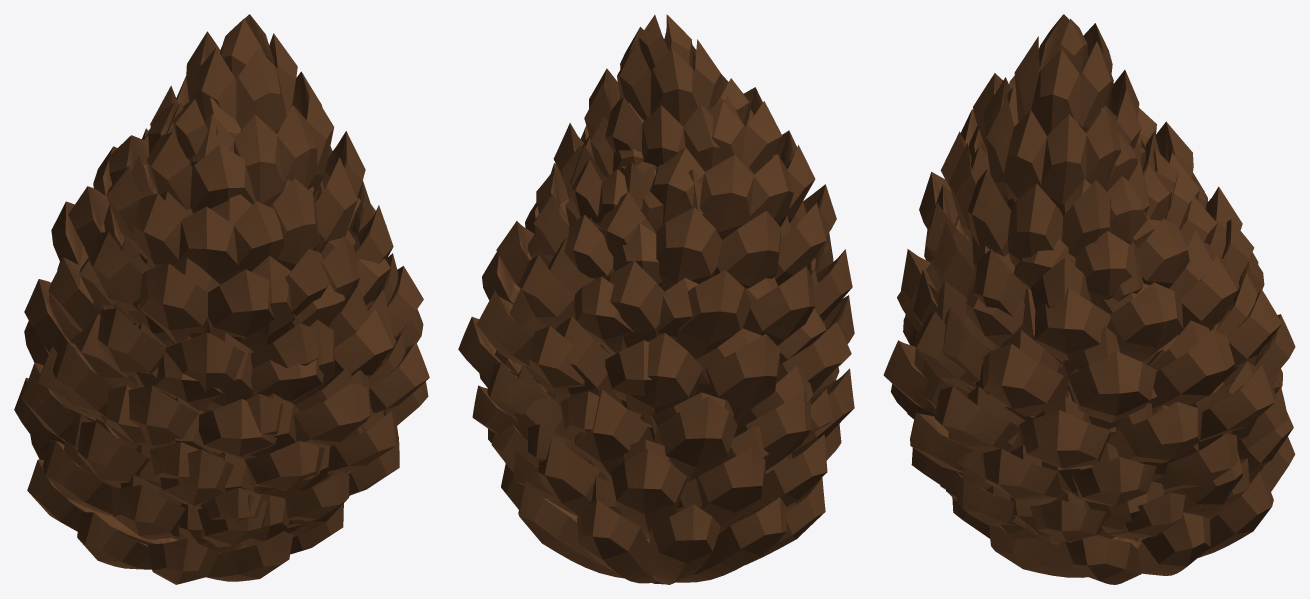
File: pinecone.obj
3 renders of one model, left to right at view 1: azimuth 30°, elevation 25°; view 2: azimuth 150°, elevation 25°; view 3: azimuth 270°, elevation 25°, orthographic. The views are drawn at different scales.
Parts seen in each view (by area): view 1: Plane.373_Plane.001, Plane.372_Plane.001, Plane.337_Plane.001, Plane.400_Plane.001, Plane.374_Plane.001, Plane.454_Plane.001, Plane.399_Plane.001, Plane.309_Plane.001, Plane.356_Plane.001, Plane.489_Plane.001, Plane.332_Plane.001, Plane.461_Plane.001 (+77 smaller); view 2: Plane.318_Plane.001, Plane.342_Plane.001, Plane.316_Plane.001, Plane.312_Plane.001, Plane.351_Plane.001, Plane.313_Plane.001, Plane.349_Plane.001, Plane.314_Plane.001, Plane.350_Plane.001, Plane.343_Plane.001, Plane.348_Plane.001, Plane.319_Plane.001 (+70 smaller); view 3: Plane.439_Plane.001, Plane.441_Plane.001, Plane.413_Plane.001, Plane.440_Plane.001, Plane.402_Plane.001, Plane.403_Plane.001, Plane.412_Plane.001, Plane.401_Plane.001, Plane.331_Plane.001, Plane.481_Plane.001, Plane.388_Plane.001, Plane.525_Plane.001 (+75 smaller).
Part boxes in pixels (box(x1,y1,x2,y2)): Plane.373_Plane.001: box(140, 263, 208, 342); Plane.372_Plane.001: box(208, 269, 274, 339); Plane.337_Plane.001: box(177, 206, 240, 284); Plane.400_Plane.001: box(293, 382, 369, 445); Plane.374_Plane.001: box(190, 145, 255, 213); Plane.454_Plane.001: box(236, 49, 286, 133); Plane.399_Plane.001: box(198, 399, 276, 458); Plane.309_Plane.001: box(97, 308, 165, 377); Plane.356_Plane.001: box(112, 485, 185, 539); Plane.489_Plane.001: box(234, 114, 282, 206); Plane.332_Plane.001: box(166, 332, 245, 391); Plane.461_Plane.001: box(270, 178, 319, 270); Plane.318_Plane.001: box(654, 396, 737, 482); Plane.342_Plane.001: box(611, 449, 686, 538); Plane.316_Plane.001: box(675, 270, 750, 359); Plane.312_Plane.001: box(577, 500, 657, 583); Plane.351_Plane.001: box(696, 334, 780, 423); Plane.313_Plane.001: box(649, 504, 720, 584); Plane.349_Plane.001: box(655, 207, 721, 291); Plane.314_Plane.001: box(676, 497, 786, 582); Plane.350_Plane.001: box(625, 333, 703, 426); Plane.343_Plane.001: box(696, 447, 765, 526); Plane.348_Plane.001: box(713, 211, 780, 288); Plane.319_Plane.001: box(575, 389, 653, 482); Plane.439_Plane.001: box(1067, 351, 1156, 422); Plane.441_Plane.001: box(983, 343, 1068, 416); Plane.413_Plane.001: box(1109, 282, 1183, 361); Plane.440_Plane.001: box(1151, 330, 1234, 410); Plane.402_Plane.001: box(1019, 410, 1110, 469); Plane.403_Plane.001: box(1108, 402, 1202, 463); Plane.412_Plane.001: box(1035, 288, 1110, 362); Plane.401_Plane.001: box(934, 386, 1024, 452); Plane.331_Plane.001: box(1127, 512, 1210, 575); Plane.481_Plane.001: box(1007, 183, 1063, 266); Plane.388_Plane.001: box(1196, 365, 1275, 441); Plane.525_Plane.001: box(1041, 114, 1086, 209).
Size of the model in its own units: 0.2452 by 0.3634 by 0.2396.
